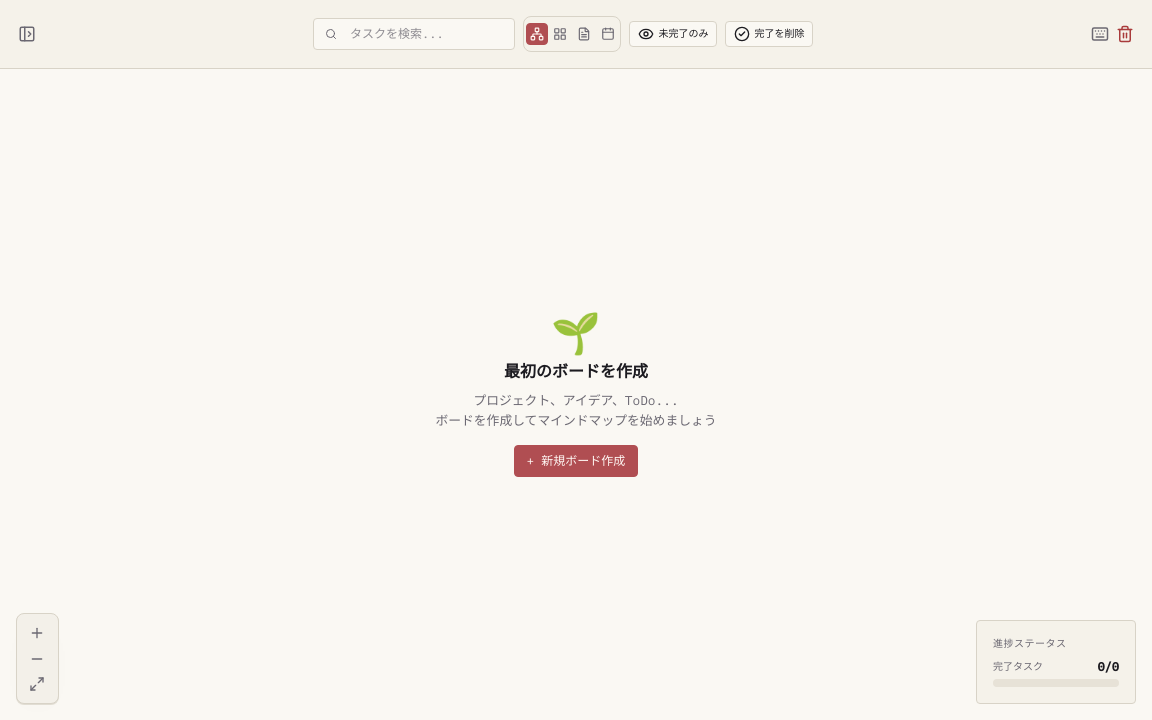
Scenario: modal-based edit end-to-end › committing inline input with empty text does not create a node
Click the button "+ 新規ボード作成": (576, 461) x1=514 y1=445 x2=638 y2=477
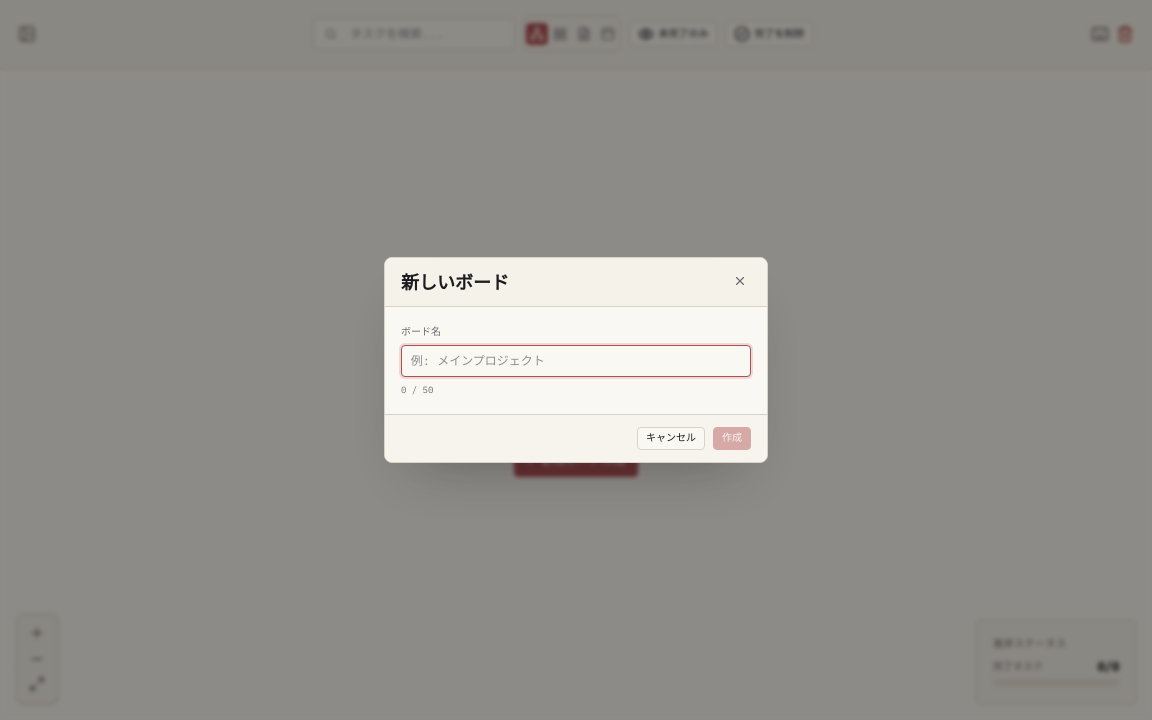
In the field with placeholder "例: メインプロジェクト": (576, 361) x1=401 y1=345 x2=751 y2=377, type "Test"
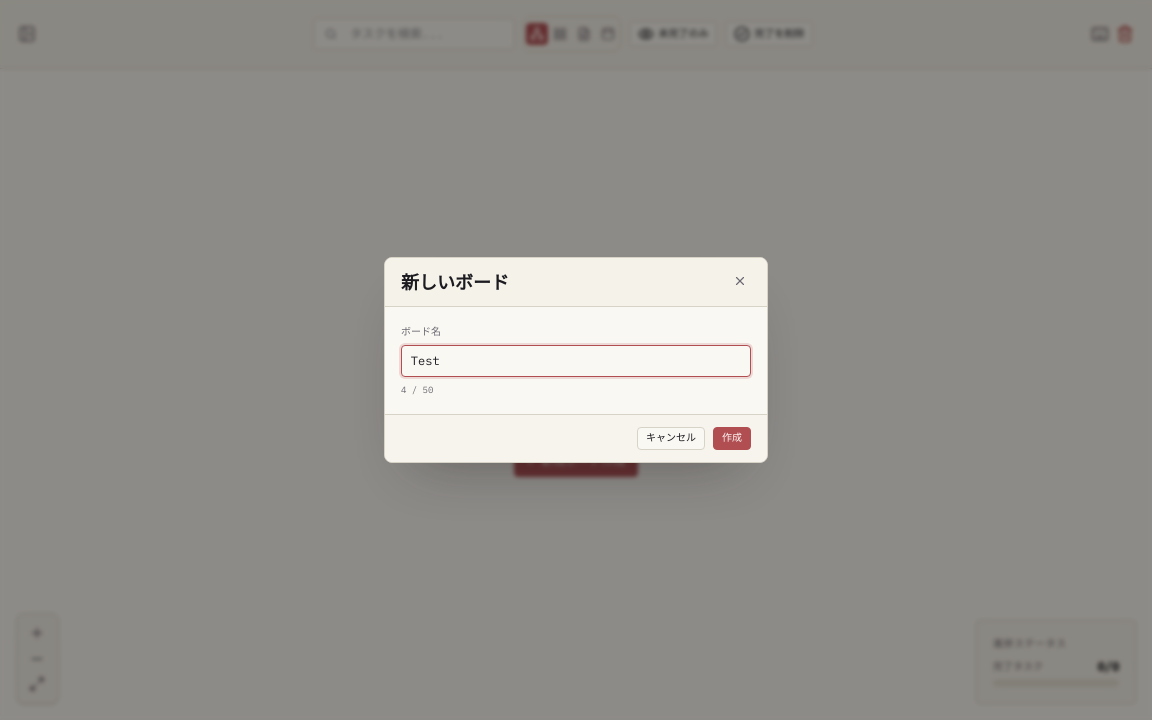
Click the button "作成": (732, 438) x1=713 y1=426 x2=751 y2=450
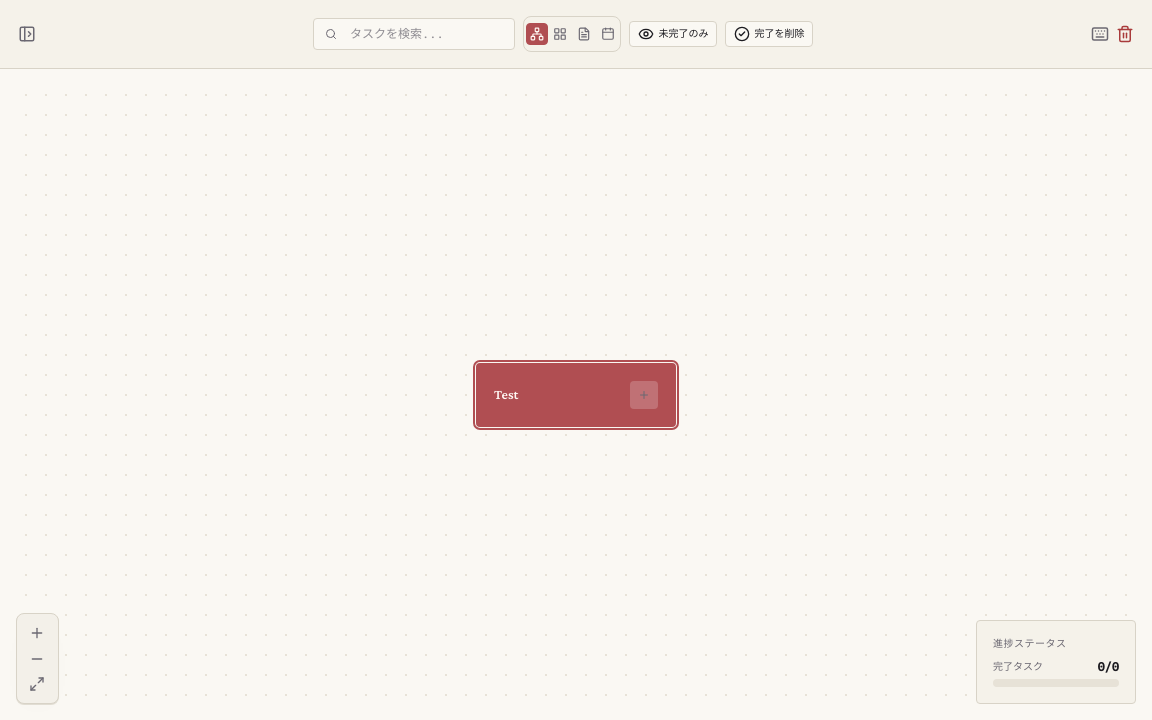
Click the button with test id "add-child-root": (644, 394) x1=630 y1=380 x2=658 y2=408
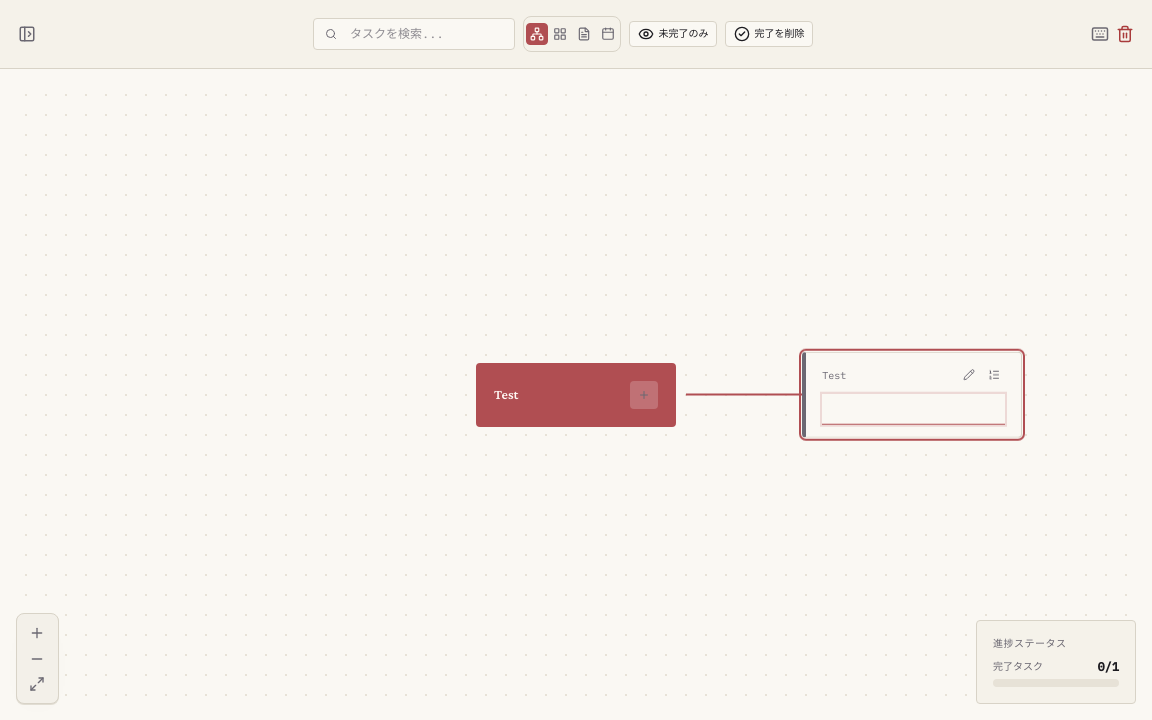
Press Enter in the field with test id "inline-edit-input", box x1=830 y1=394 x2=1014 y2=425
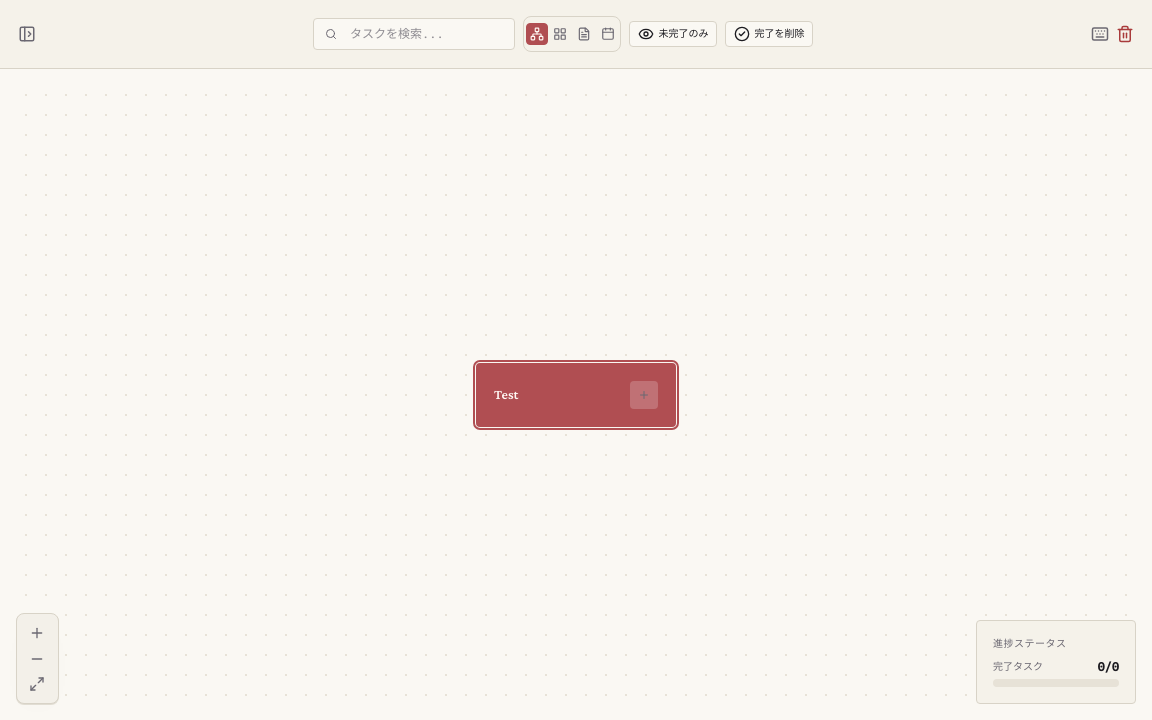
Expected: the field with test id "inline-edit-input" is gone
